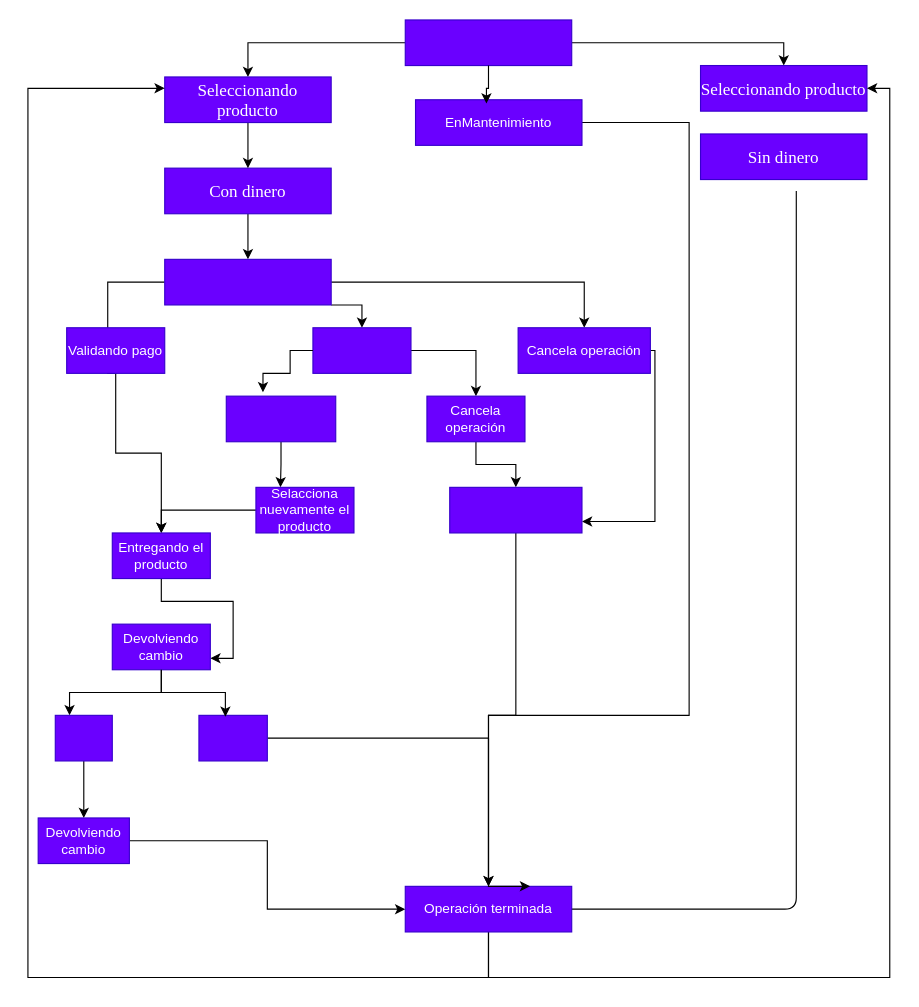
The diagram is 919 pixels wide and 1007 high, and some of its shapes have lost their labels. Here are the shapes that lost their labels. From the top down, the centre of each, then its label:
[488,42]: SinDinero
[247,281]: Hace selección de su producto
[361,350]: Pago insuficiente
[280,418]: Ingresa la cantidad faltante
[515,509]: Devolviendo DInero
[83,737]: Hay cambio
[232,737]: No hay cambio
